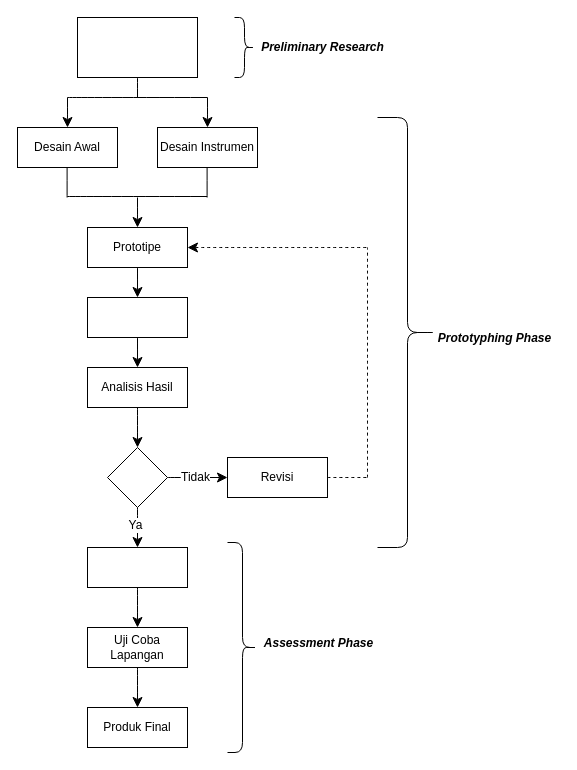
Some shapes in this 577 by 770 pixel diagram are drawn without their labels. Each missing label, with the centre of its shape:
"Analisis Kajian Teori" belongs at (x=137, y=47).
"Prototipe Akhir" belongs at (x=137, y=567).
"Valid" belongs at (x=137, y=477).
"Validasi" belongs at (x=137, y=317).
